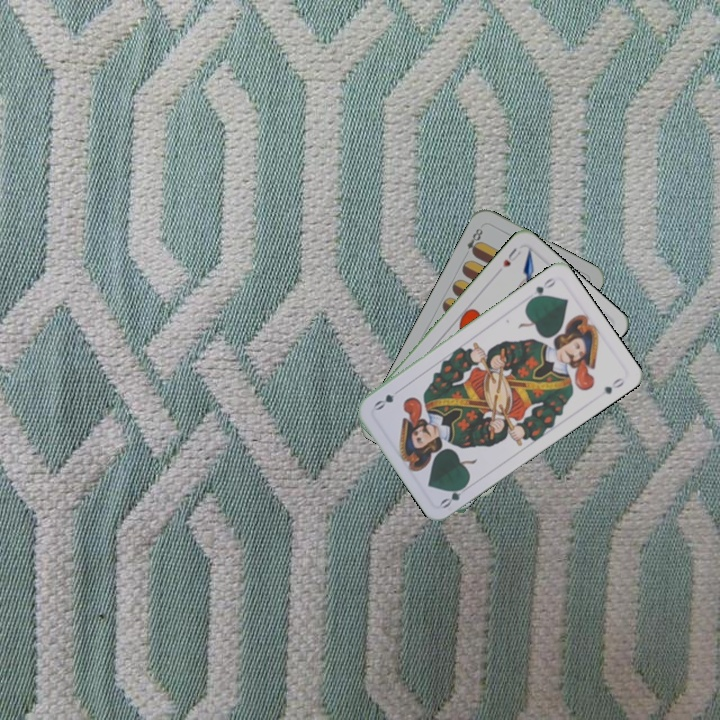E8: (463, 224, 485, 258)
GO: (436, 479, 473, 511), (525, 274, 559, 304)
HU: (499, 244, 524, 270)
